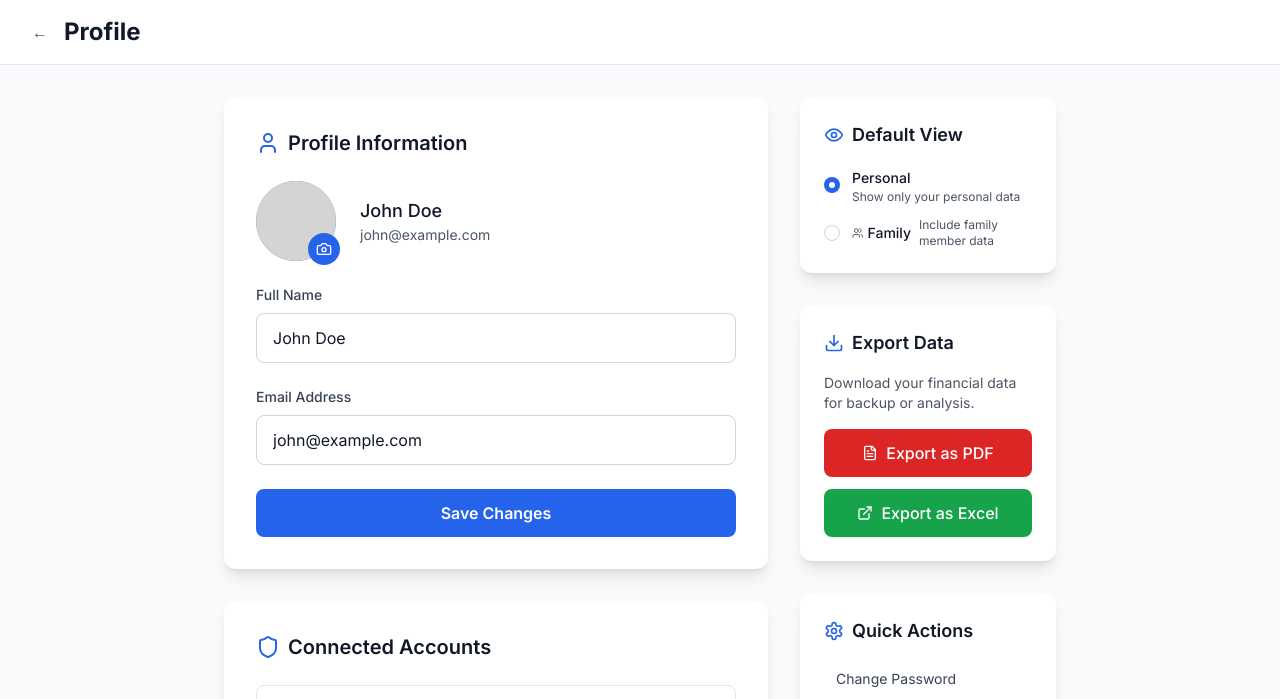
Scenario: ProfilePage › shows success message after successful update
The width and height of the screenshot is (1280, 699).
Click the button "Save Changes" at (496, 513), box [256,489,736,537]
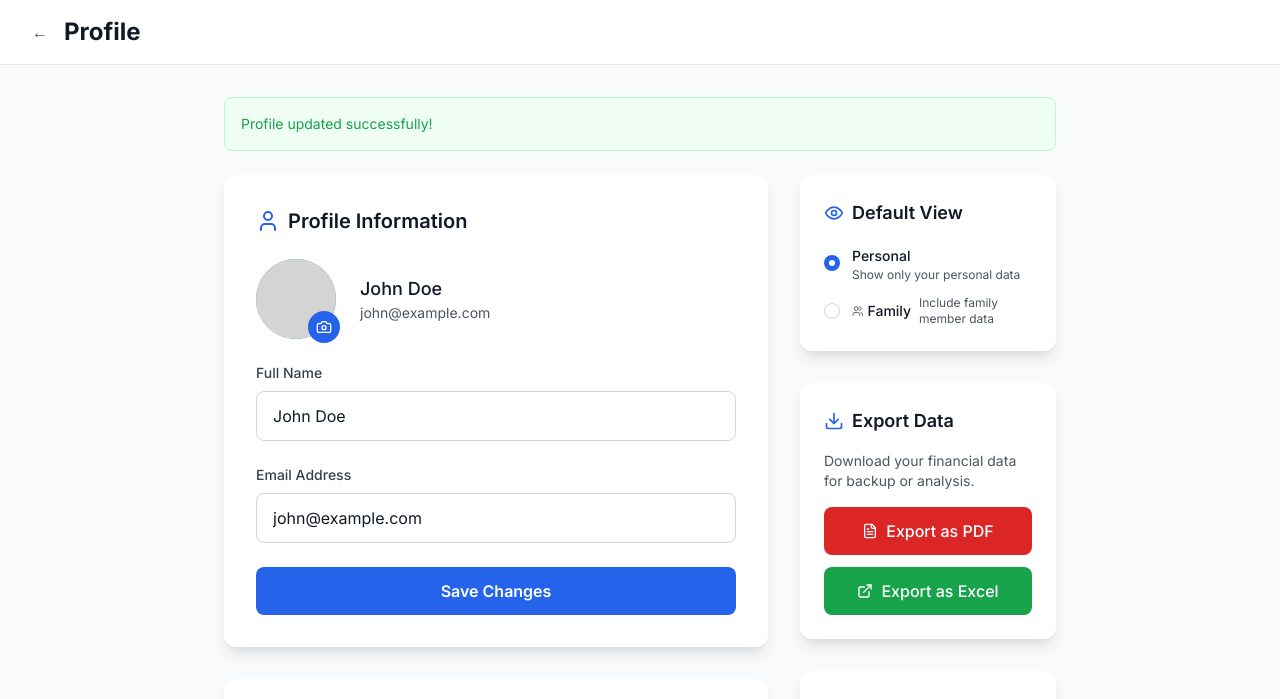
expect the text "Profile updated successfully!" is shown: met, box [241,115,433,132]
